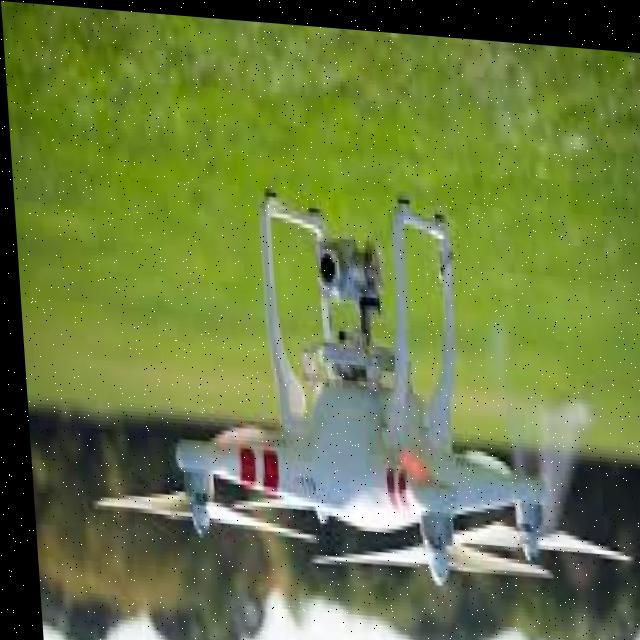drones: (14, 126, 618, 629)
